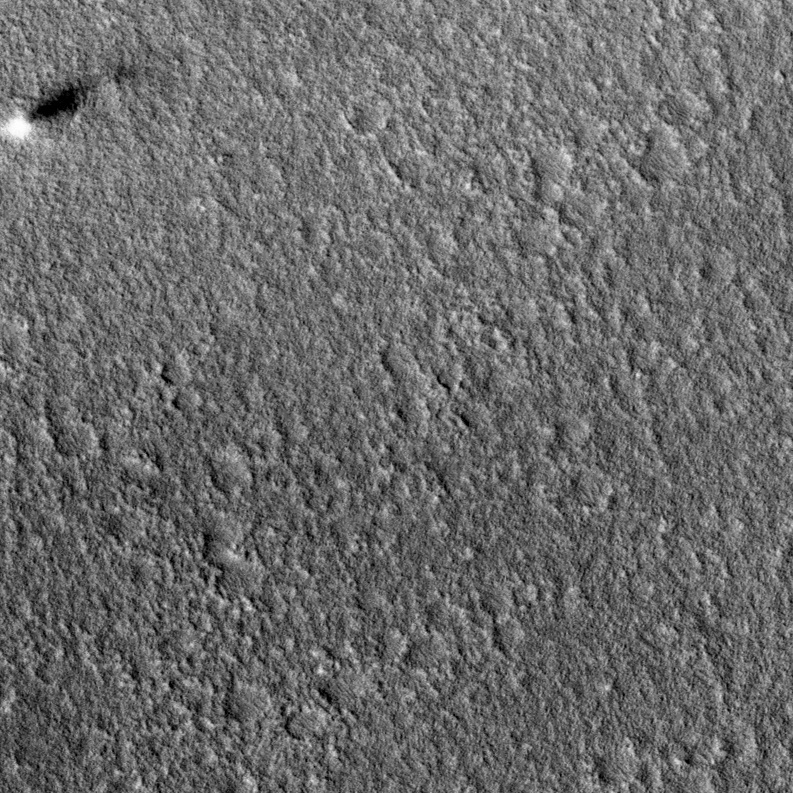dust_devil: (1, 71, 101, 145)
